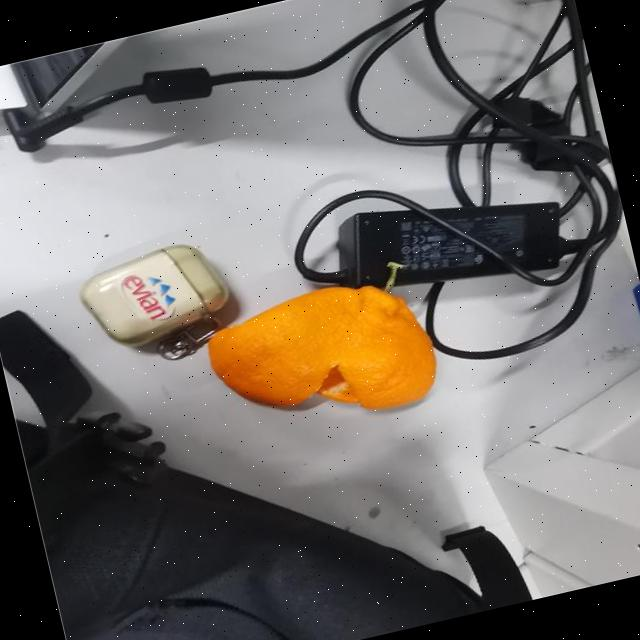orange-peel: (198, 263, 446, 447)
